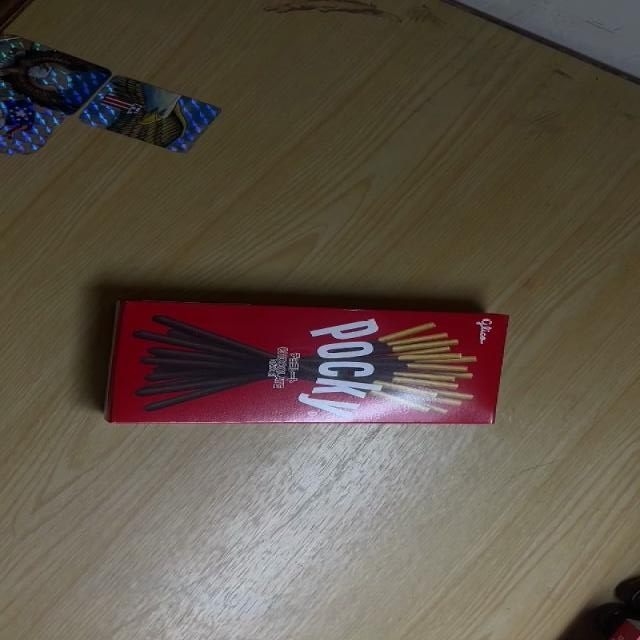Pocky: (112, 297, 511, 427)
